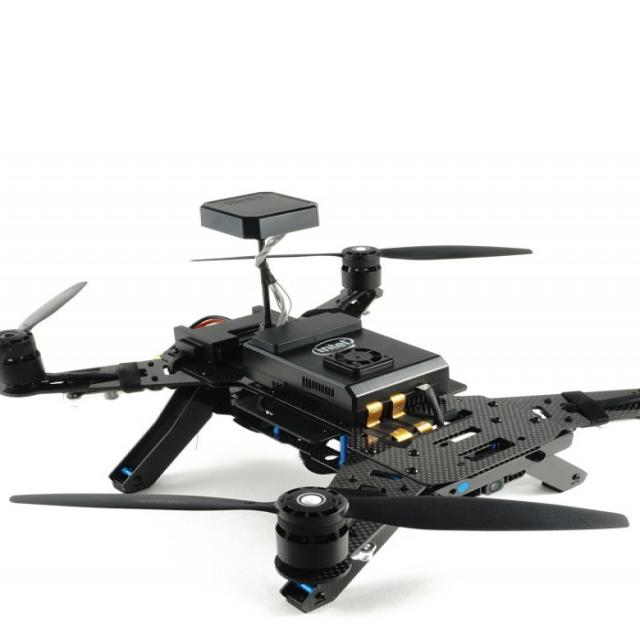drone: (0, 206, 640, 612)
